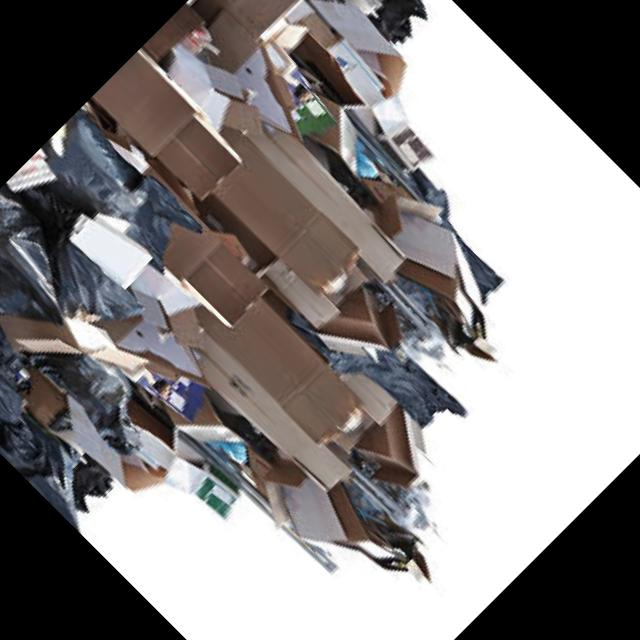Kardus: (190, 268, 370, 448), (177, 320, 348, 490), (199, 131, 363, 295), (90, 48, 248, 206), (256, 126, 412, 282), (349, 400, 456, 508), (202, 0, 310, 44)
